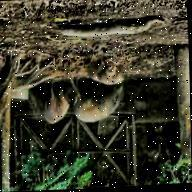boar: (72, 81, 128, 133), (35, 65, 77, 129), (93, 58, 125, 91)
